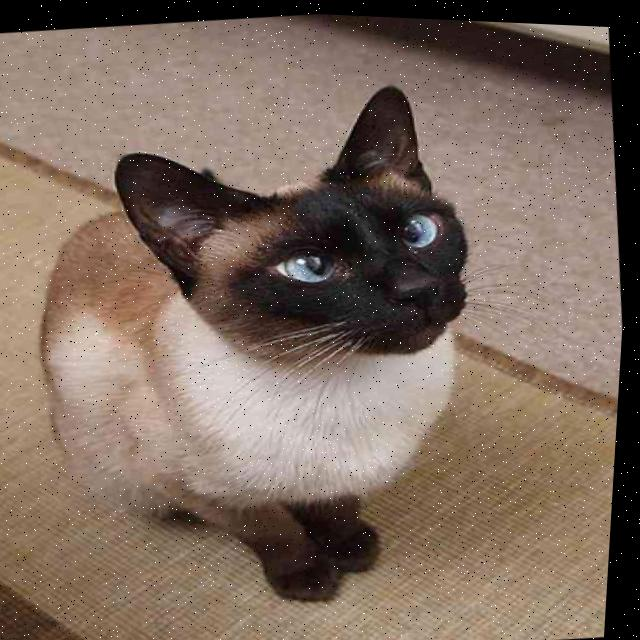Siamese: (0, 55, 523, 637)
